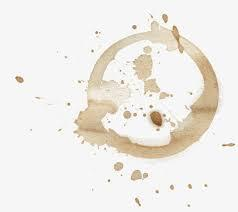gun: (75, 26, 215, 156), (107, 162, 149, 183), (8, 71, 23, 82), (158, 11, 170, 22)
